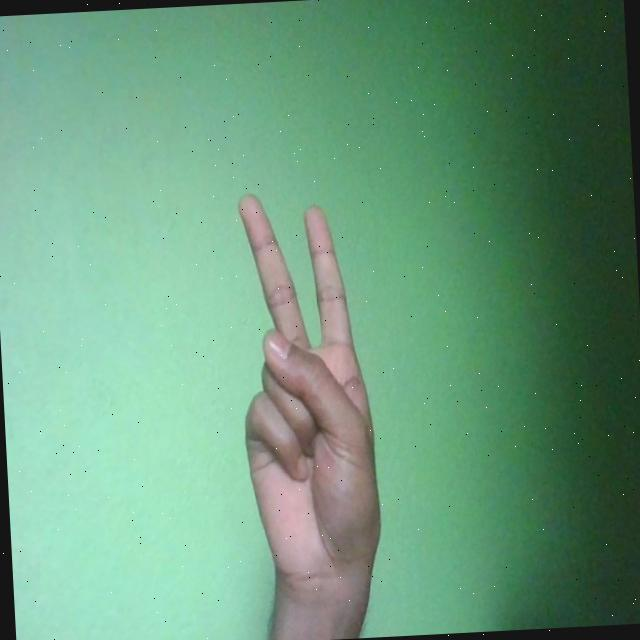Fist: (232, 188, 385, 598)
